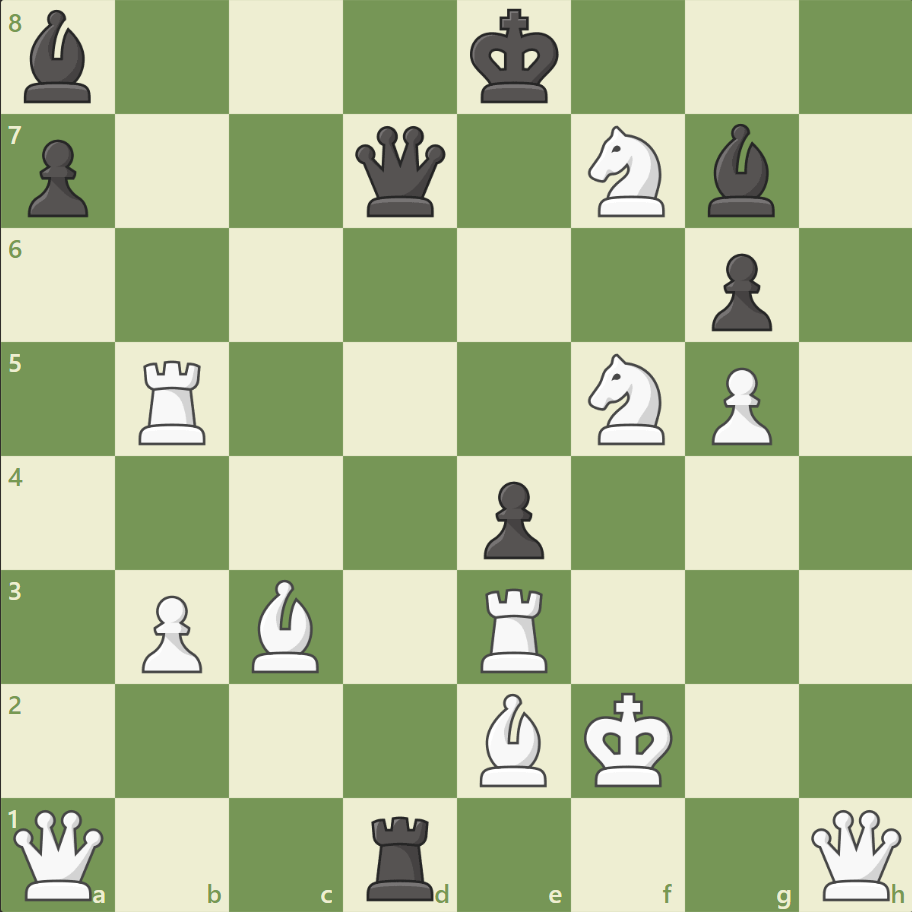B: (471, 687, 555, 790), (244, 574, 328, 676)
K: (579, 685, 679, 793)
N: (579, 121, 676, 223), (579, 348, 676, 450)
P: (701, 359, 776, 450), (133, 586, 208, 677)
Q: (10, 804, 109, 903), (805, 804, 904, 903)
R: (473, 579, 556, 676), (133, 352, 215, 449)
b: (17, 6, 101, 109), (698, 120, 782, 222)
k: (465, 4, 565, 112)
p: (20, 132, 95, 223), (701, 246, 776, 337), (474, 473, 549, 564)
q: (351, 122, 450, 222)
r: (360, 806, 442, 904)
